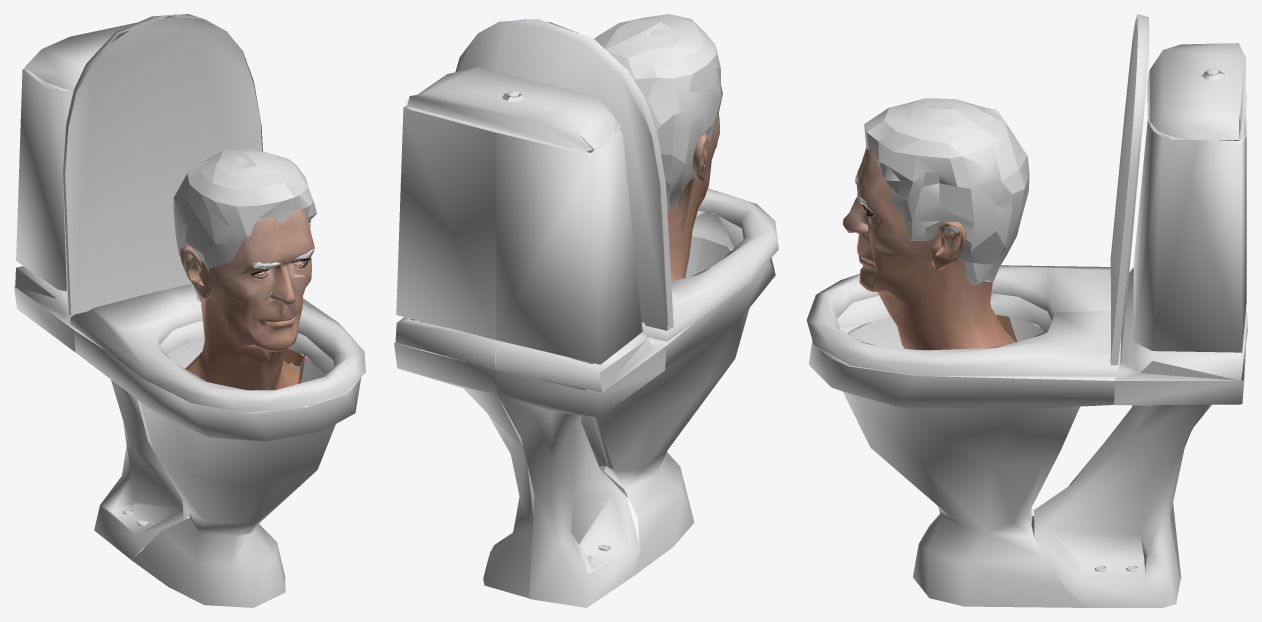
Rendered from skibidi_0.fbx.
3 renders of one model, left to right at view 1: azimuth 30°, elevation 25°; view 2: azimuth 150°, elevation 25°; view 3: azimuth 270°, elevation 25°, orthographic. The views are drawn at different scales.
Visible parts, largest first — view 1: Object_5, Object_2, Object_3, Sphere.002; view 2: Object_5, Object_2, Sphere.002, Object_3; view 3: Object_5, Object_2, Sphere.002, Object_3.
Boxes of the visible parts, x1,y1,x2,y2 form: Object_5: (14,14,361,607); Object_2: (63,14,365,526); Object_3: (180,209,314,390); Sphere.002: (173,148,316,303); Object_5: (394,67,775,607); Object_2: (455,19,778,562); Sphere.002: (594,14,721,211); Object_3: (667,85,722,280); Object_5: (809,43,1247,607); Object_2: (807,14,1224,572); Sphere.002: (855,98,1029,285); Object_3: (842,147,1017,377).
Size of the model in its own units: 692 by 1705 by 1231.
